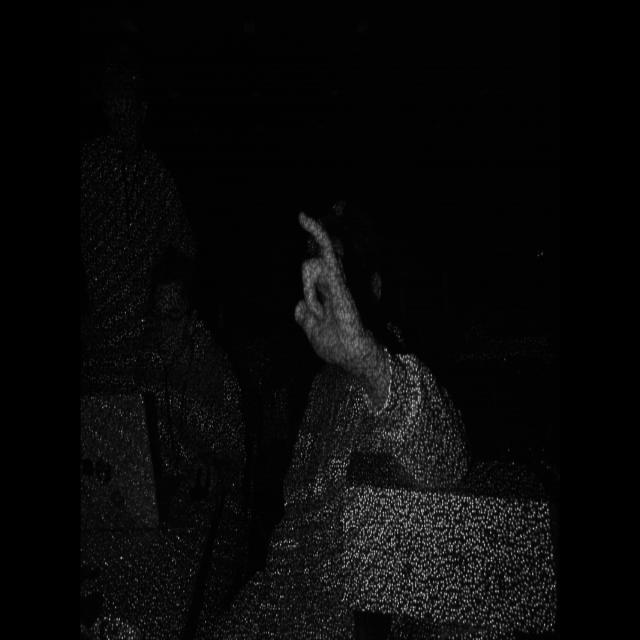D: (277, 184, 385, 395)
